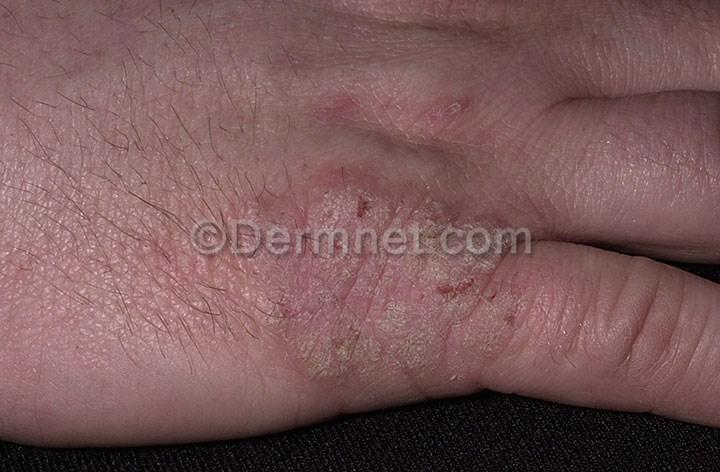Eczema: (170, 239, 292, 335), (380, 253, 455, 355), (291, 299, 374, 385), (220, 166, 307, 245), (444, 100, 512, 194), (452, 232, 534, 309), (391, 53, 470, 132), (311, 155, 385, 233), (324, 45, 380, 145), (299, 239, 393, 298), (384, 165, 448, 247), (504, 274, 571, 350), (447, 181, 513, 249), (451, 290, 513, 354), (375, 348, 441, 385)
